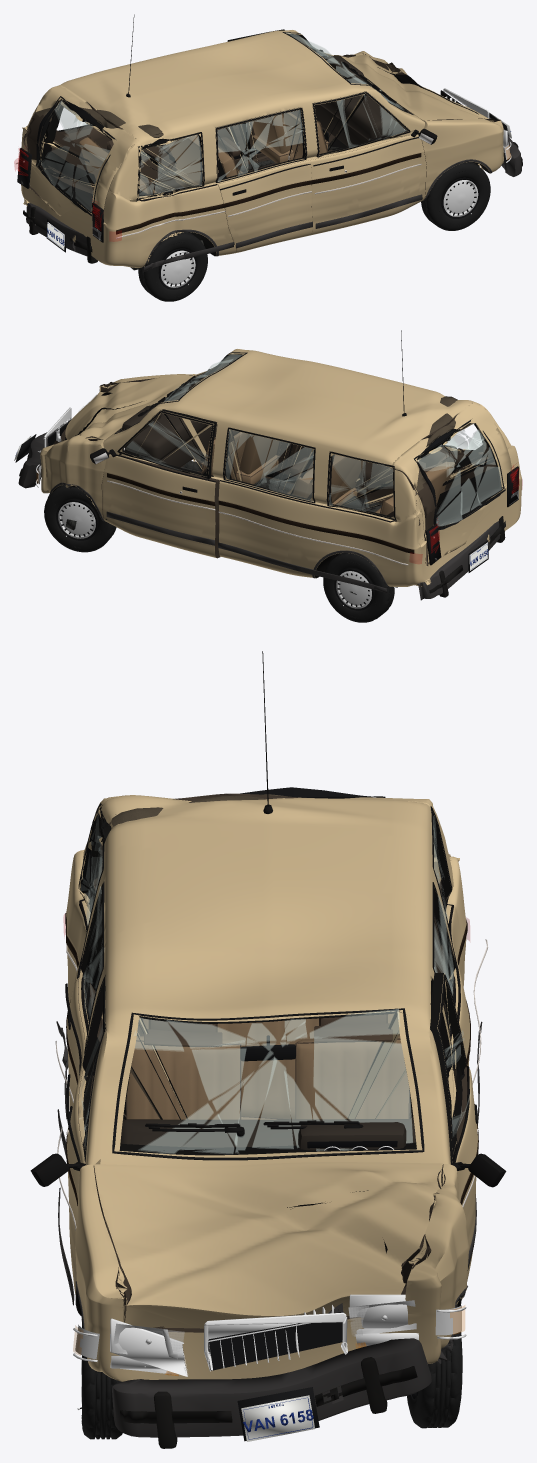
The model's file is minivan86_front_corner_d1_lod1.glb.
3 views of the same model, one above another, from view 1: azimuth 30°, elevation 25°; view 2: azimuth 150°, elevation 25°; view 3: azimuth 270°, elevation 25° (orthographic). The views are drawn at different scales.
Parts seen in each view (by area): view 1: Body, Interior, Door_FR, Door_SR, Glass_Liftgate, Liftgate, Glass, Wheel_FR_mesh, Wheel_RR_mesh, Hood, Trim, Trim_FR (+8 smaller); view 2: Body, Door_FL, Interior, Glass, Trim, Glass_Liftgate, Liftgate, Hood, Wheel_RL_mesh, Wheel_FL_mesh, Trim_FL, Ends (+6 smaller); view 3: Body, Hood, Interior, Glass, Ends, Bumper_F, Trim, Door_FL, Wheel_FL_mesh, Door_FR, Trim_FR, Wheel_FR_mesh (+4 smaller).
Boxes of the visible parts, x1,y1,x2,y2 form: Body: (21, 30, 503, 267); Interior: (79, 55, 403, 194); Door_FR: (310, 91, 426, 235); Door_SR: (215, 107, 312, 252); Glass_Liftgate: (35, 96, 115, 215); Liftgate: (26, 85, 142, 216); Glass: (74, 32, 413, 201); Wheel_FR_mesh: (421, 162, 490, 230); Wheel_RR_mesh: (138, 232, 207, 301); Hood: (341, 54, 488, 120); Trim: (15, 14, 492, 272); Trim_FR: (311, 92, 437, 228); Body: (40, 349, 521, 586); Door_FL: (102, 409, 220, 558); Interior: (122, 383, 454, 515); Glass: (114, 352, 482, 511); Trim: (48, 330, 414, 592); Glass_Liftgate: (414, 419, 505, 530); Liftgate: (392, 402, 512, 566); Hood: (65, 375, 192, 440); Wheel_RL_mesh: (323, 553, 394, 622); Wheel_FL_mesh: (44, 485, 116, 552); Trim_FL: (90, 411, 216, 545); Ends: (14, 394, 518, 572); Body: (66, 795, 469, 1381); Hood: (94, 1162, 442, 1328); Interior: (120, 1013, 416, 1150); Glass: (80, 805, 453, 1160); Ends: (73, 1294, 466, 1441); Bumper_F: (112, 1338, 431, 1448); Trim: (56, 651, 487, 1363); Door_FL: (430, 973, 477, 1299); Wheel_FL_mesh: (407, 1304, 462, 1428); Door_FR: (67, 975, 106, 1294); Trim_FR: (30, 976, 105, 1305); Wheel_FR_mesh: (77, 1316, 122, 1439).
Bounding box in the file's own units: 4.53 × 2.44 × 2.07.
34 materials, 5 textured.
